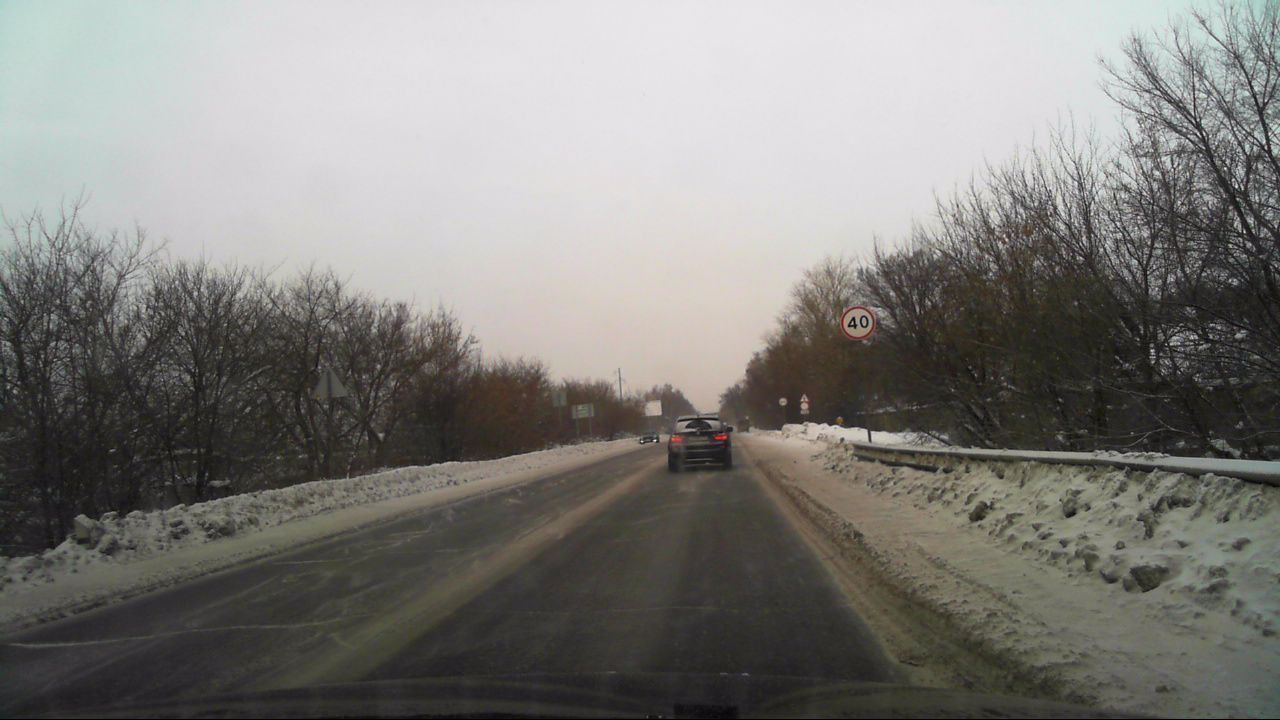speed_warning_40: (840, 306, 874, 341)
